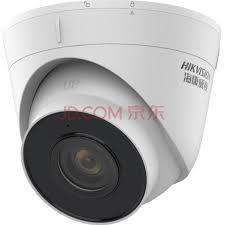maru: (8, 62, 214, 221)
